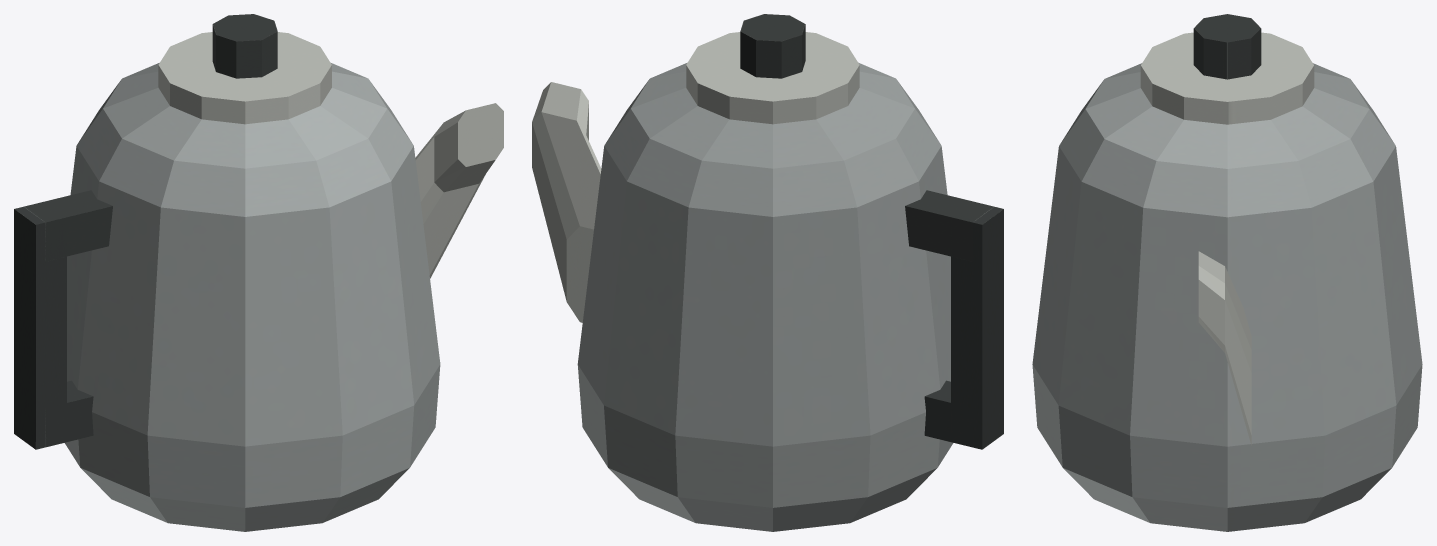
File: kettle.glb
3 views of the same model, side by side, from view 1: azimuth 30°, elevation 25°; view 2: azimuth 150°, elevation 25°; view 3: azimuth 270°, elevation 25° (orthographic).
Parts seen in each view (by area): view 1: home_kettle; view 2: home_kettle; view 3: home_kettle.
Part boxes in pixels (<box>): home_kettle: <box>14,14,503,531</box>; home_kettle: <box>532,14,1003,531</box>; home_kettle: <box>1032,14,1422,531</box>.
Size of the model in its own units: 0.2225 by 0.201 by 0.162.
Materials: 1 (1 with a texture image).
